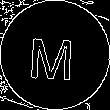M_N: (31, 28, 79, 82)
